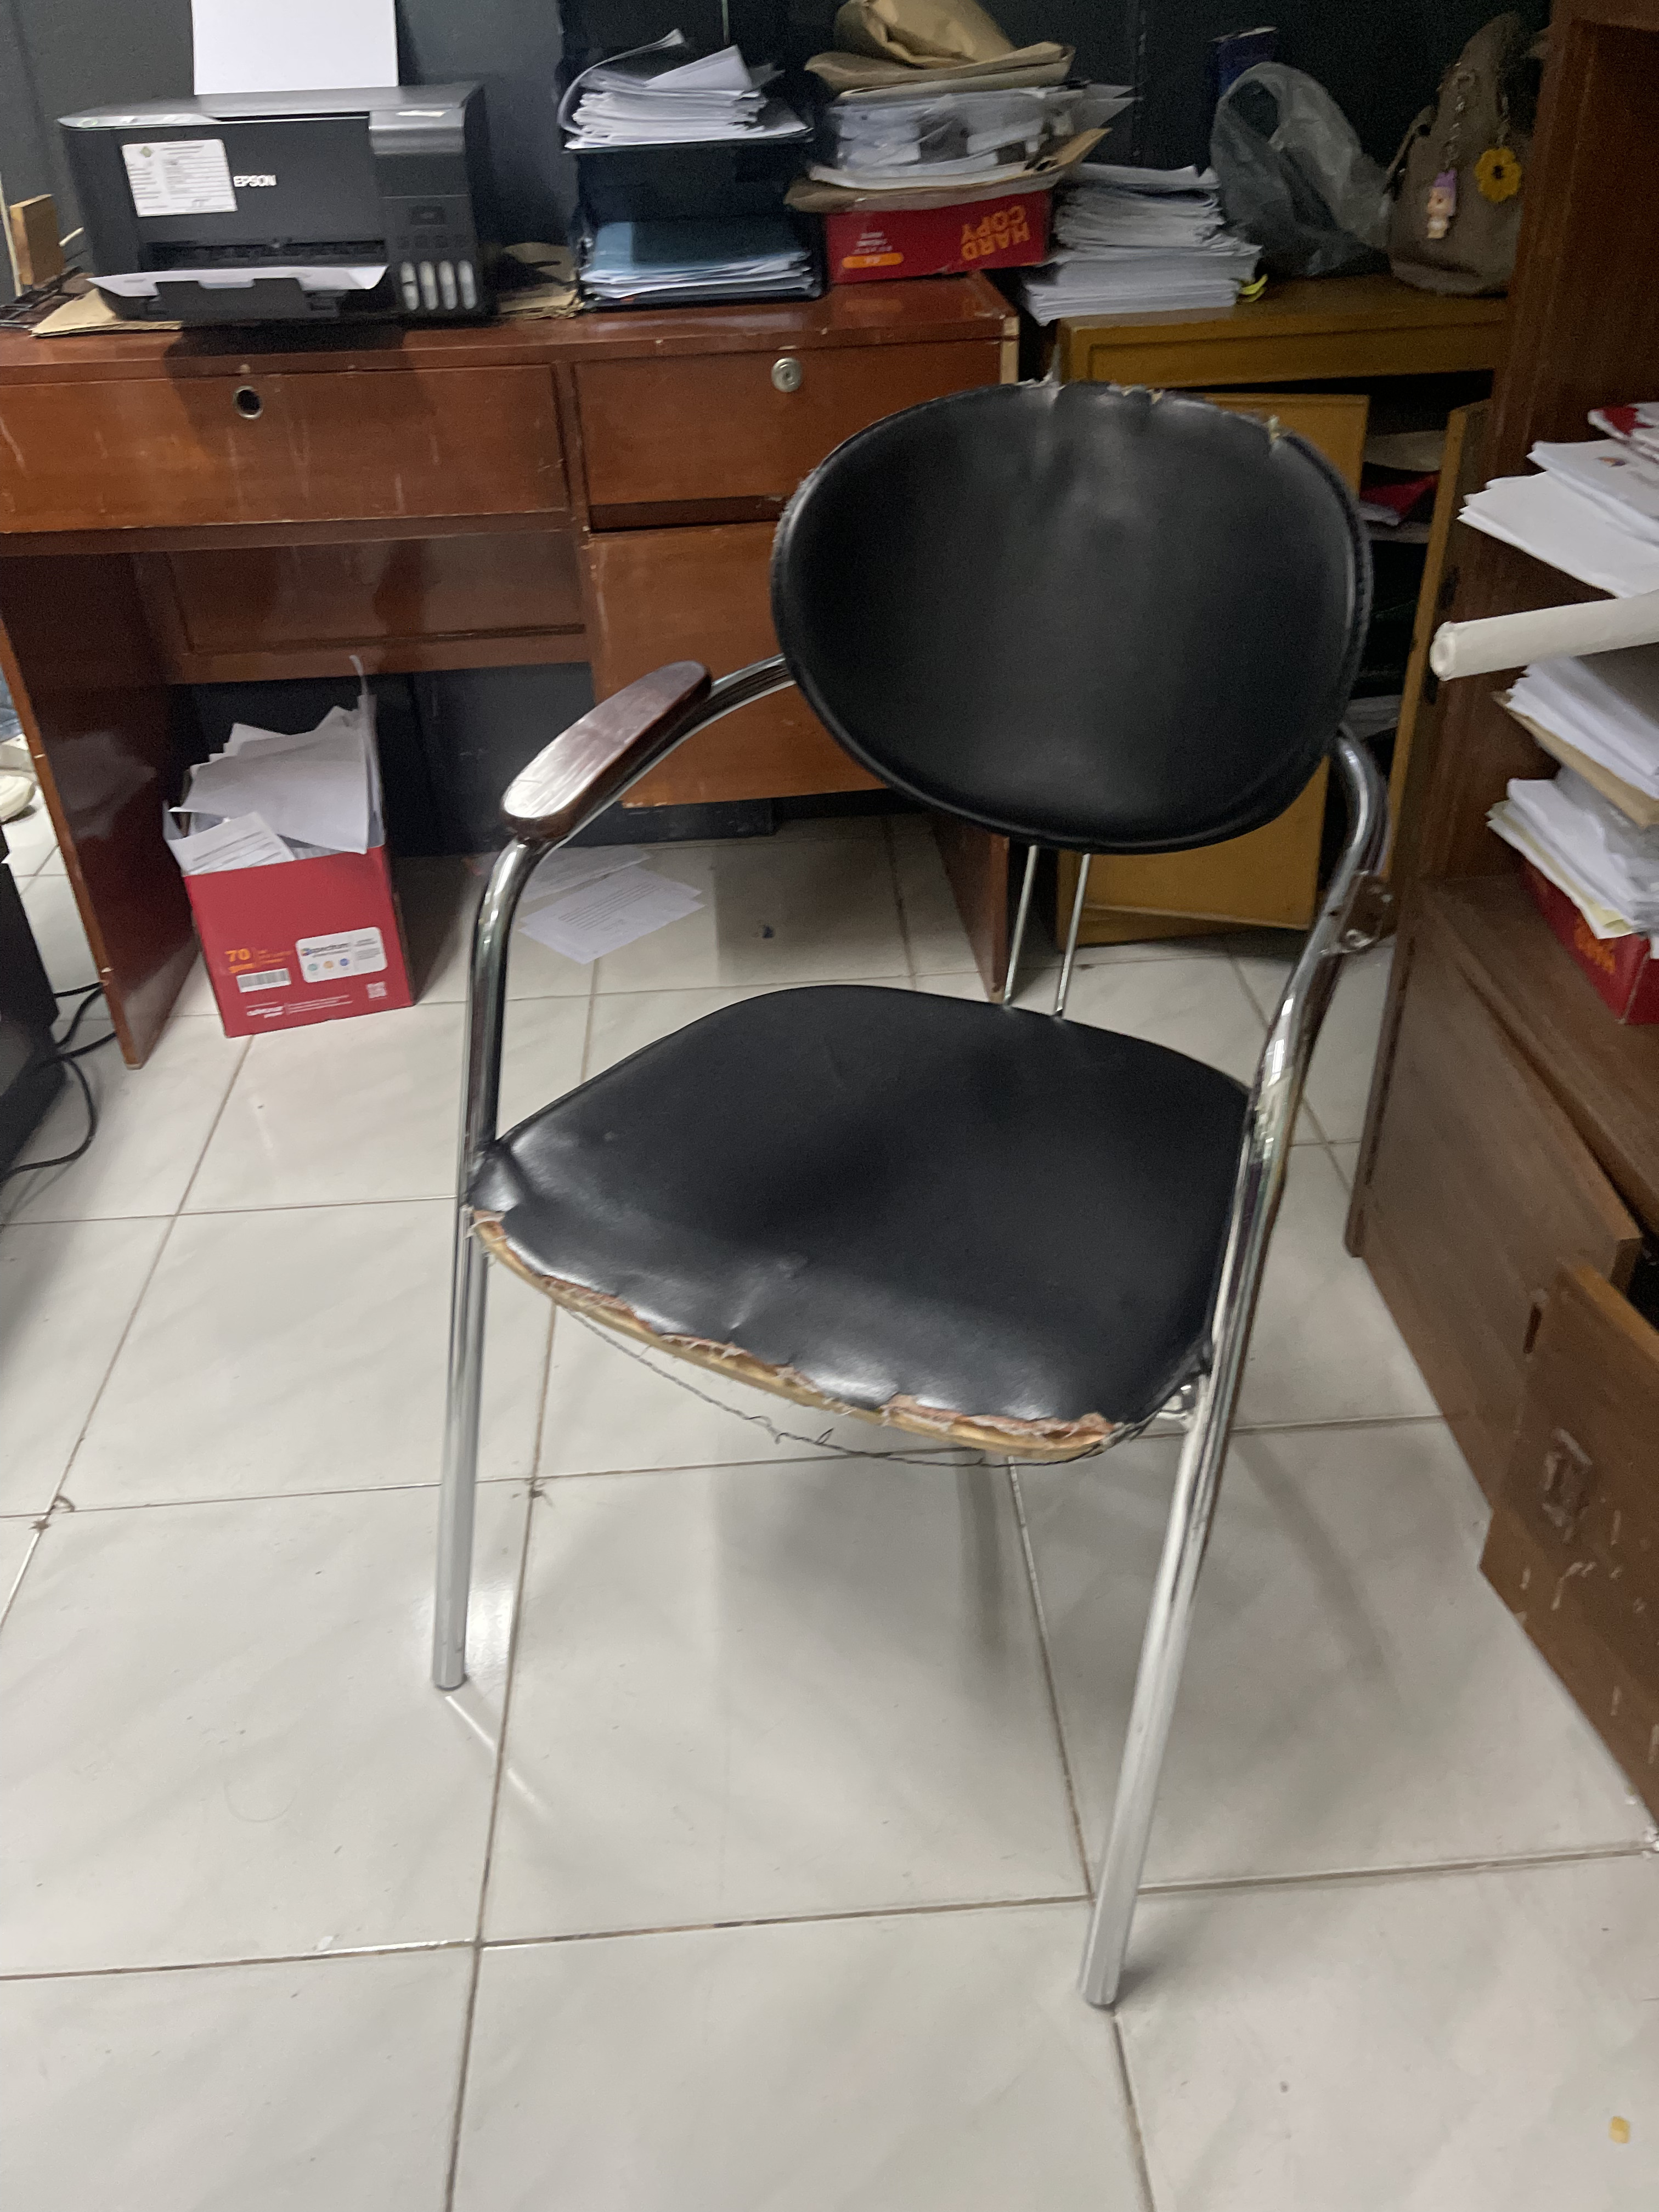chair1: (410, 371, 1401, 2047)
